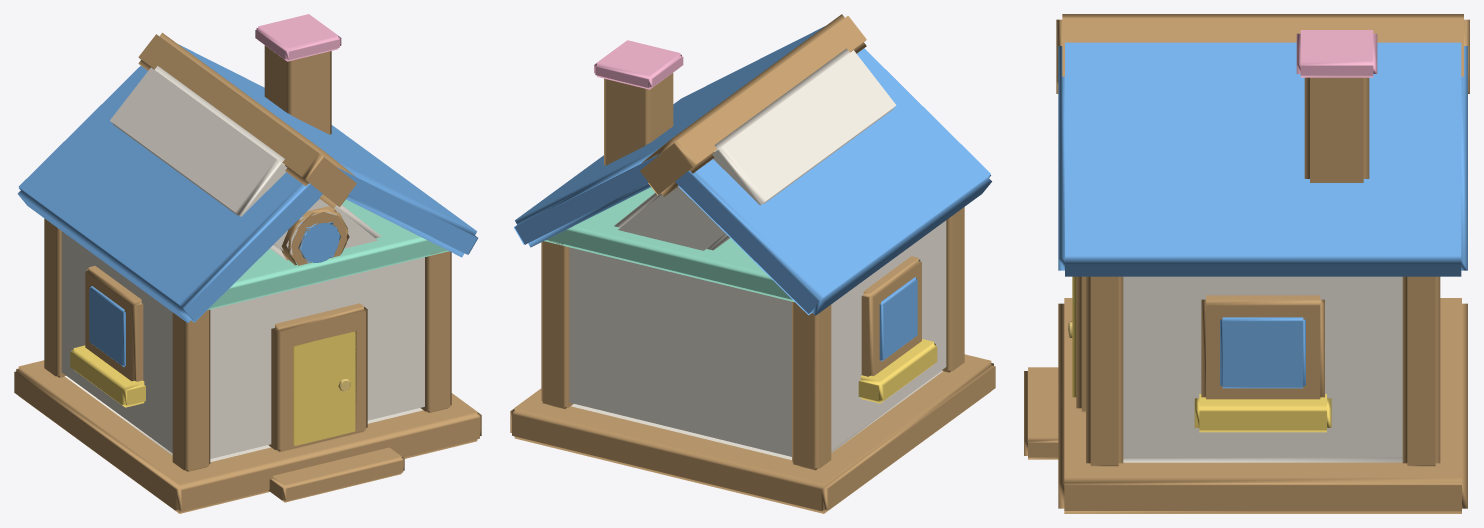
File: toy_house_blue.glb
The picture shows the model from 3 angles, left to right: view 1: azimuth 30°, elevation 25°; view 2: azimuth 150°, elevation 25°; view 3: azimuth 270°, elevation 25°; orthographic projection. The views are drawn at different scales.
Visible parts, largest first — view 1: Body, RoofSlab_L, Plinth, GableCore, RoofSlab_R, RoofGable, EaveBand, DoorFrame, DoorLeaf, CornerPost_-1.28_-1.18, Chimney, CornerPost_1.28_-1.18 (+8 smaller); view 2: Body, RoofSlab_L, Plinth, GableCore, RoofSlab_R, RoofGable, EaveBand, CornerPost_-1.28_1.18, CornerPost_1.28_1.18, Chimney, SideWinFrame_-1.0, CornerPost_-1.28_-1.18 (+3 smaller); view 3: RoofSlab_R, Body, Plinth, RoofGable, CornerPost_1.28_1.18, CornerPost_1.28_-1.18, SideWinFrame_1.0, Chimney, SideWinPane_1.0, SidePlanter_1.0, ChimneyCap, PorchStep (+2 smaller).
Part boxes in pixels (x1,y1,x2,y2): Body: (61, 231, 424, 462); RoofSlab_L: (17, 66, 322, 322); Plinth: (14, 360, 481, 513); GableCore: (110, 66, 381, 260); RoofSlab_R: (178, 44, 478, 257); RoofGable: (138, 32, 356, 208); EaveBand: (207, 199, 448, 310); DoorFrame: (268, 303, 367, 452); DoorLeaf: (293, 331, 356, 445); CornerPost_-1.28_-1.18: (172, 309, 210, 471); Chimney: (264, 45, 331, 134); CornerPost_1.28_-1.18: (420, 251, 451, 412); Body: (569, 220, 946, 459); RoofSlab_L: (675, 48, 991, 315); Plinth: (510, 354, 995, 513); GableCore: (614, 48, 896, 250); RoofSlab_R: (514, 26, 824, 247); RoofGable: (640, 14, 866, 196); EaveBand: (544, 187, 794, 301); CornerPost_-1.28_1.18: (792, 301, 831, 470); CornerPost_1.28_1.18: (541, 240, 573, 409); Chimney: (604, 73, 673, 165); SideWinFrame_-1.0: (861, 256, 921, 376); CornerPost_-1.28_-1.18: (942, 207, 964, 372); RoofSlab_R: (1058, 42, 1467, 276); Body: (1123, 276, 1402, 462); Plinth: (1058, 298, 1467, 513); RoofGable: (1056, 14, 1469, 93); CornerPost_1.28_1.18: (1402, 276, 1440, 466); CornerPost_1.28_-1.18: (1086, 276, 1123, 466); SideWinFrame_1.0: (1201, 295, 1324, 399); Chimney: (1304, 77, 1369, 182); SideWinPane_1.0: (1220, 317, 1305, 388); SidePlanter_1.0: (1194, 394, 1331, 432); ChimneyCap: (1296, 30, 1377, 77); PorchStep: (1024, 367, 1058, 459).
Bounding box in the file's own units: 3.25 × 3.51 × 3.32.
